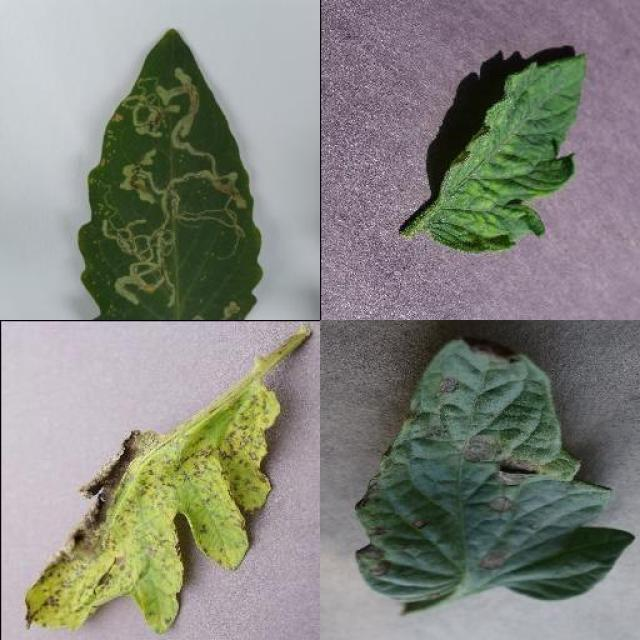Early Blight: (355, 337, 633, 602)
Septoria: (22, 381, 282, 634)
